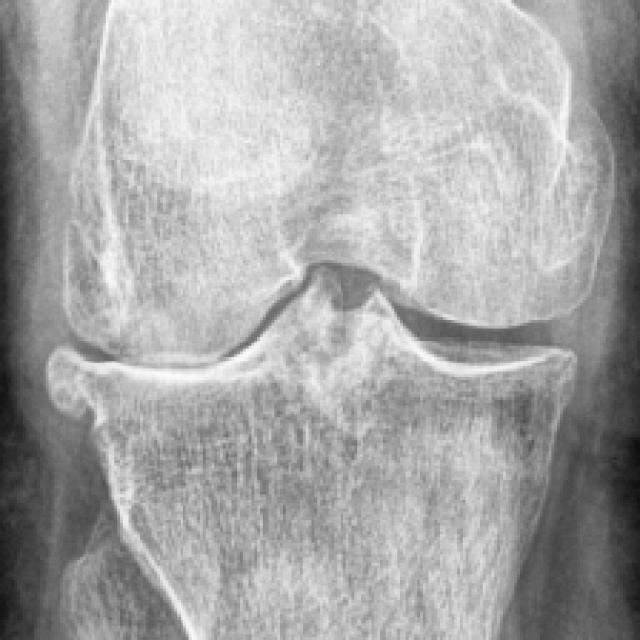femur: (61, 0, 615, 369)
tibia: (44, 267, 573, 640)
